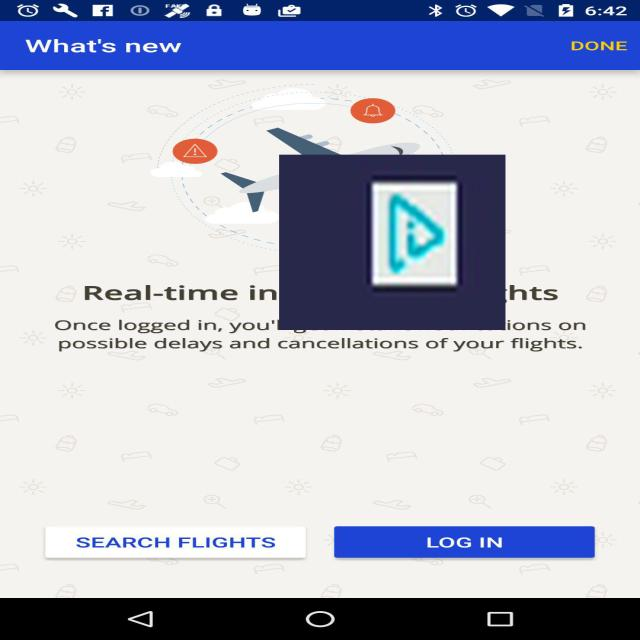sneaking: (279, 155, 506, 330)
